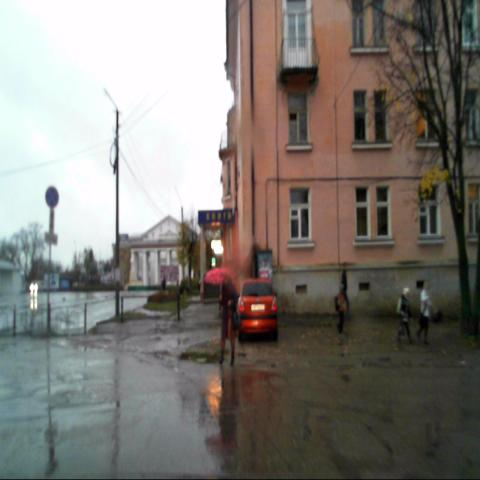3_27: (45, 186, 59, 208)
